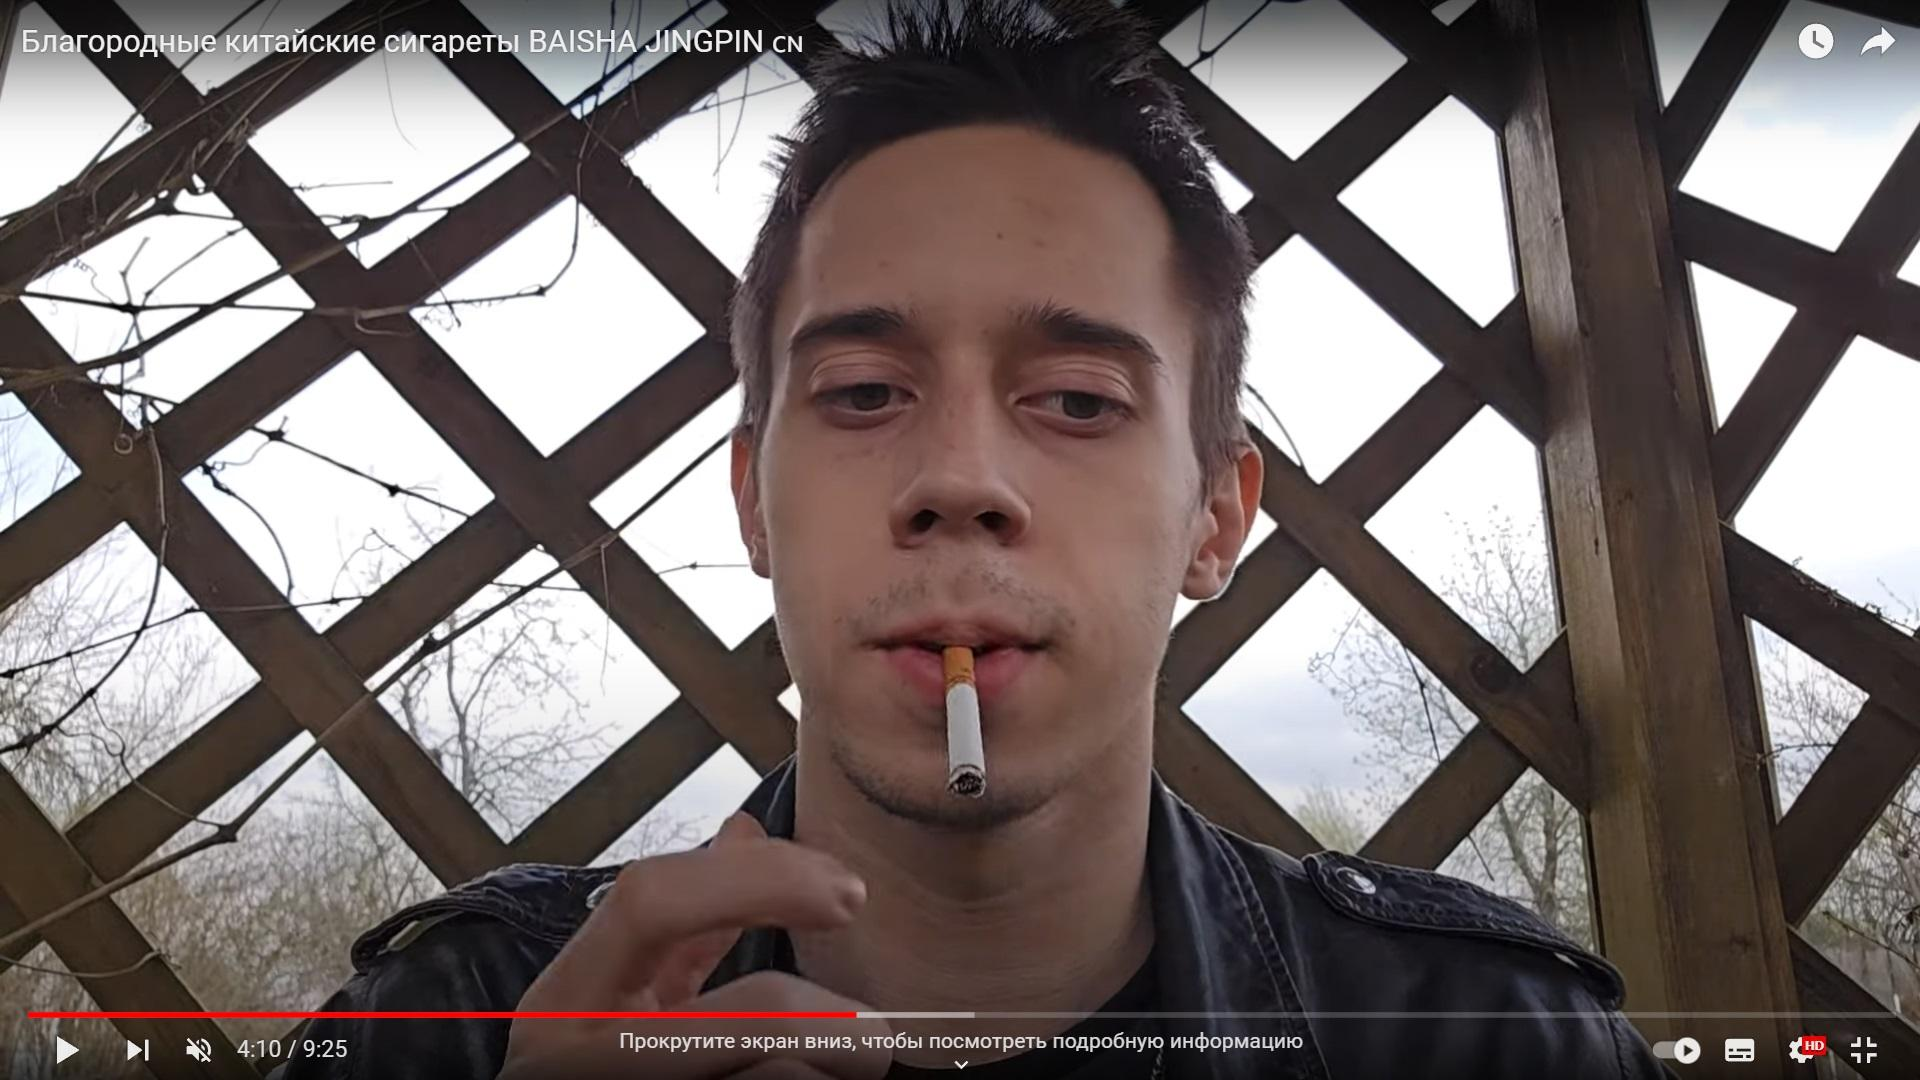cigarette: (942, 646, 986, 800)
